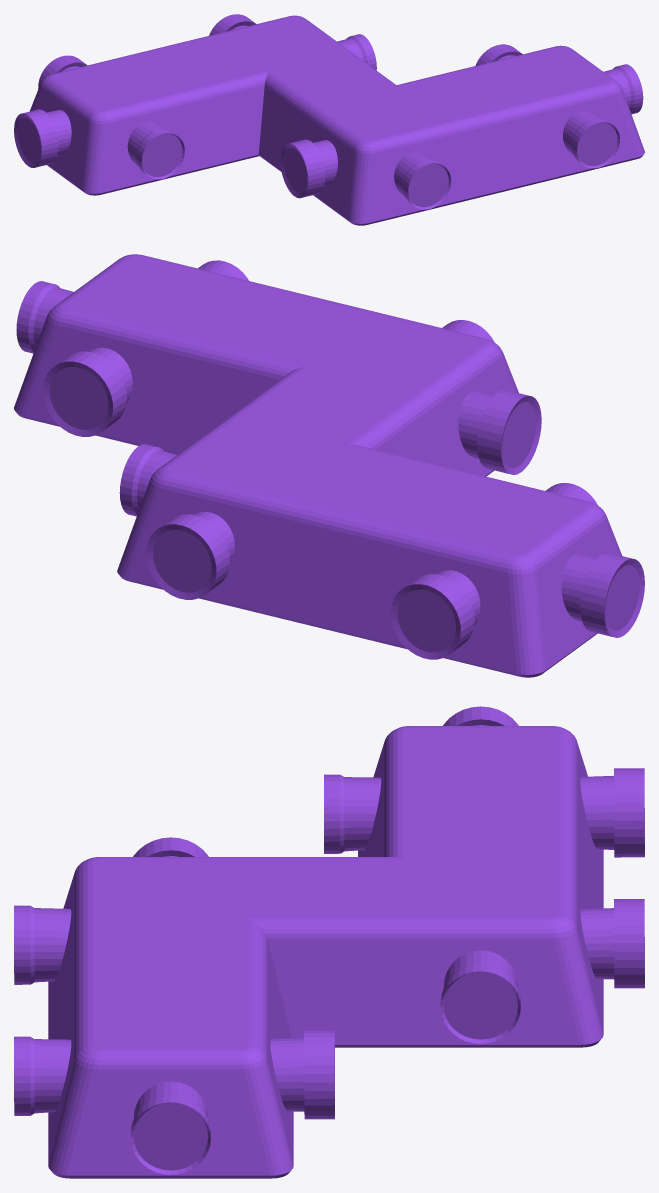
File: 64num.fbx
3 renders of one model, top to bottom at view 1: azimuth 30°, elevation 25°; view 2: azimuth 150°, elevation 25°; view 3: azimuth 270°, elevation 25°, orthographic. The views are drawn at different scales.
Visible parts, largest first — view 1: Cube.016; view 2: Cube.016; view 3: Cube.016.
Part boxes in pixels (<box>): Cube.016: <box>14,14,644,225</box>; Cube.016: <box>14,254,644,677</box>; Cube.016: <box>14,706,644,1178</box>.
Bounding box in the file's own units: 7.48 × 1 × 5.09.
